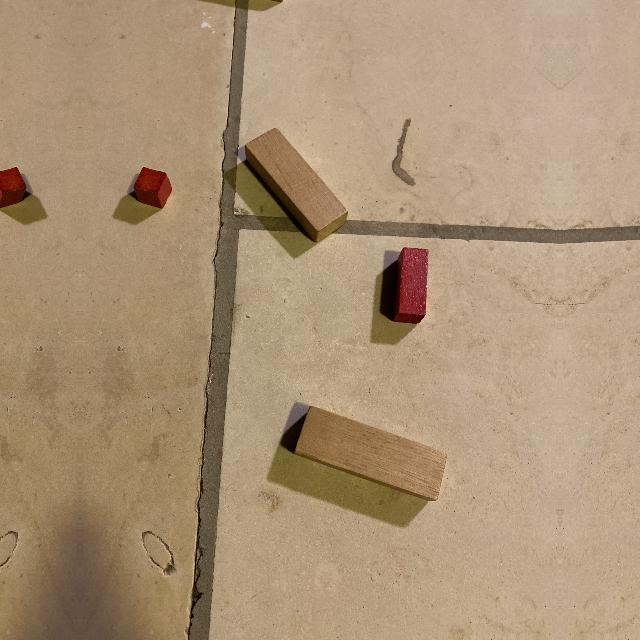jenga: (297, 402, 450, 497), (243, 126, 348, 244)
red block: (393, 246, 428, 325)
red cube: (133, 167, 175, 207), (0, 167, 27, 207)
